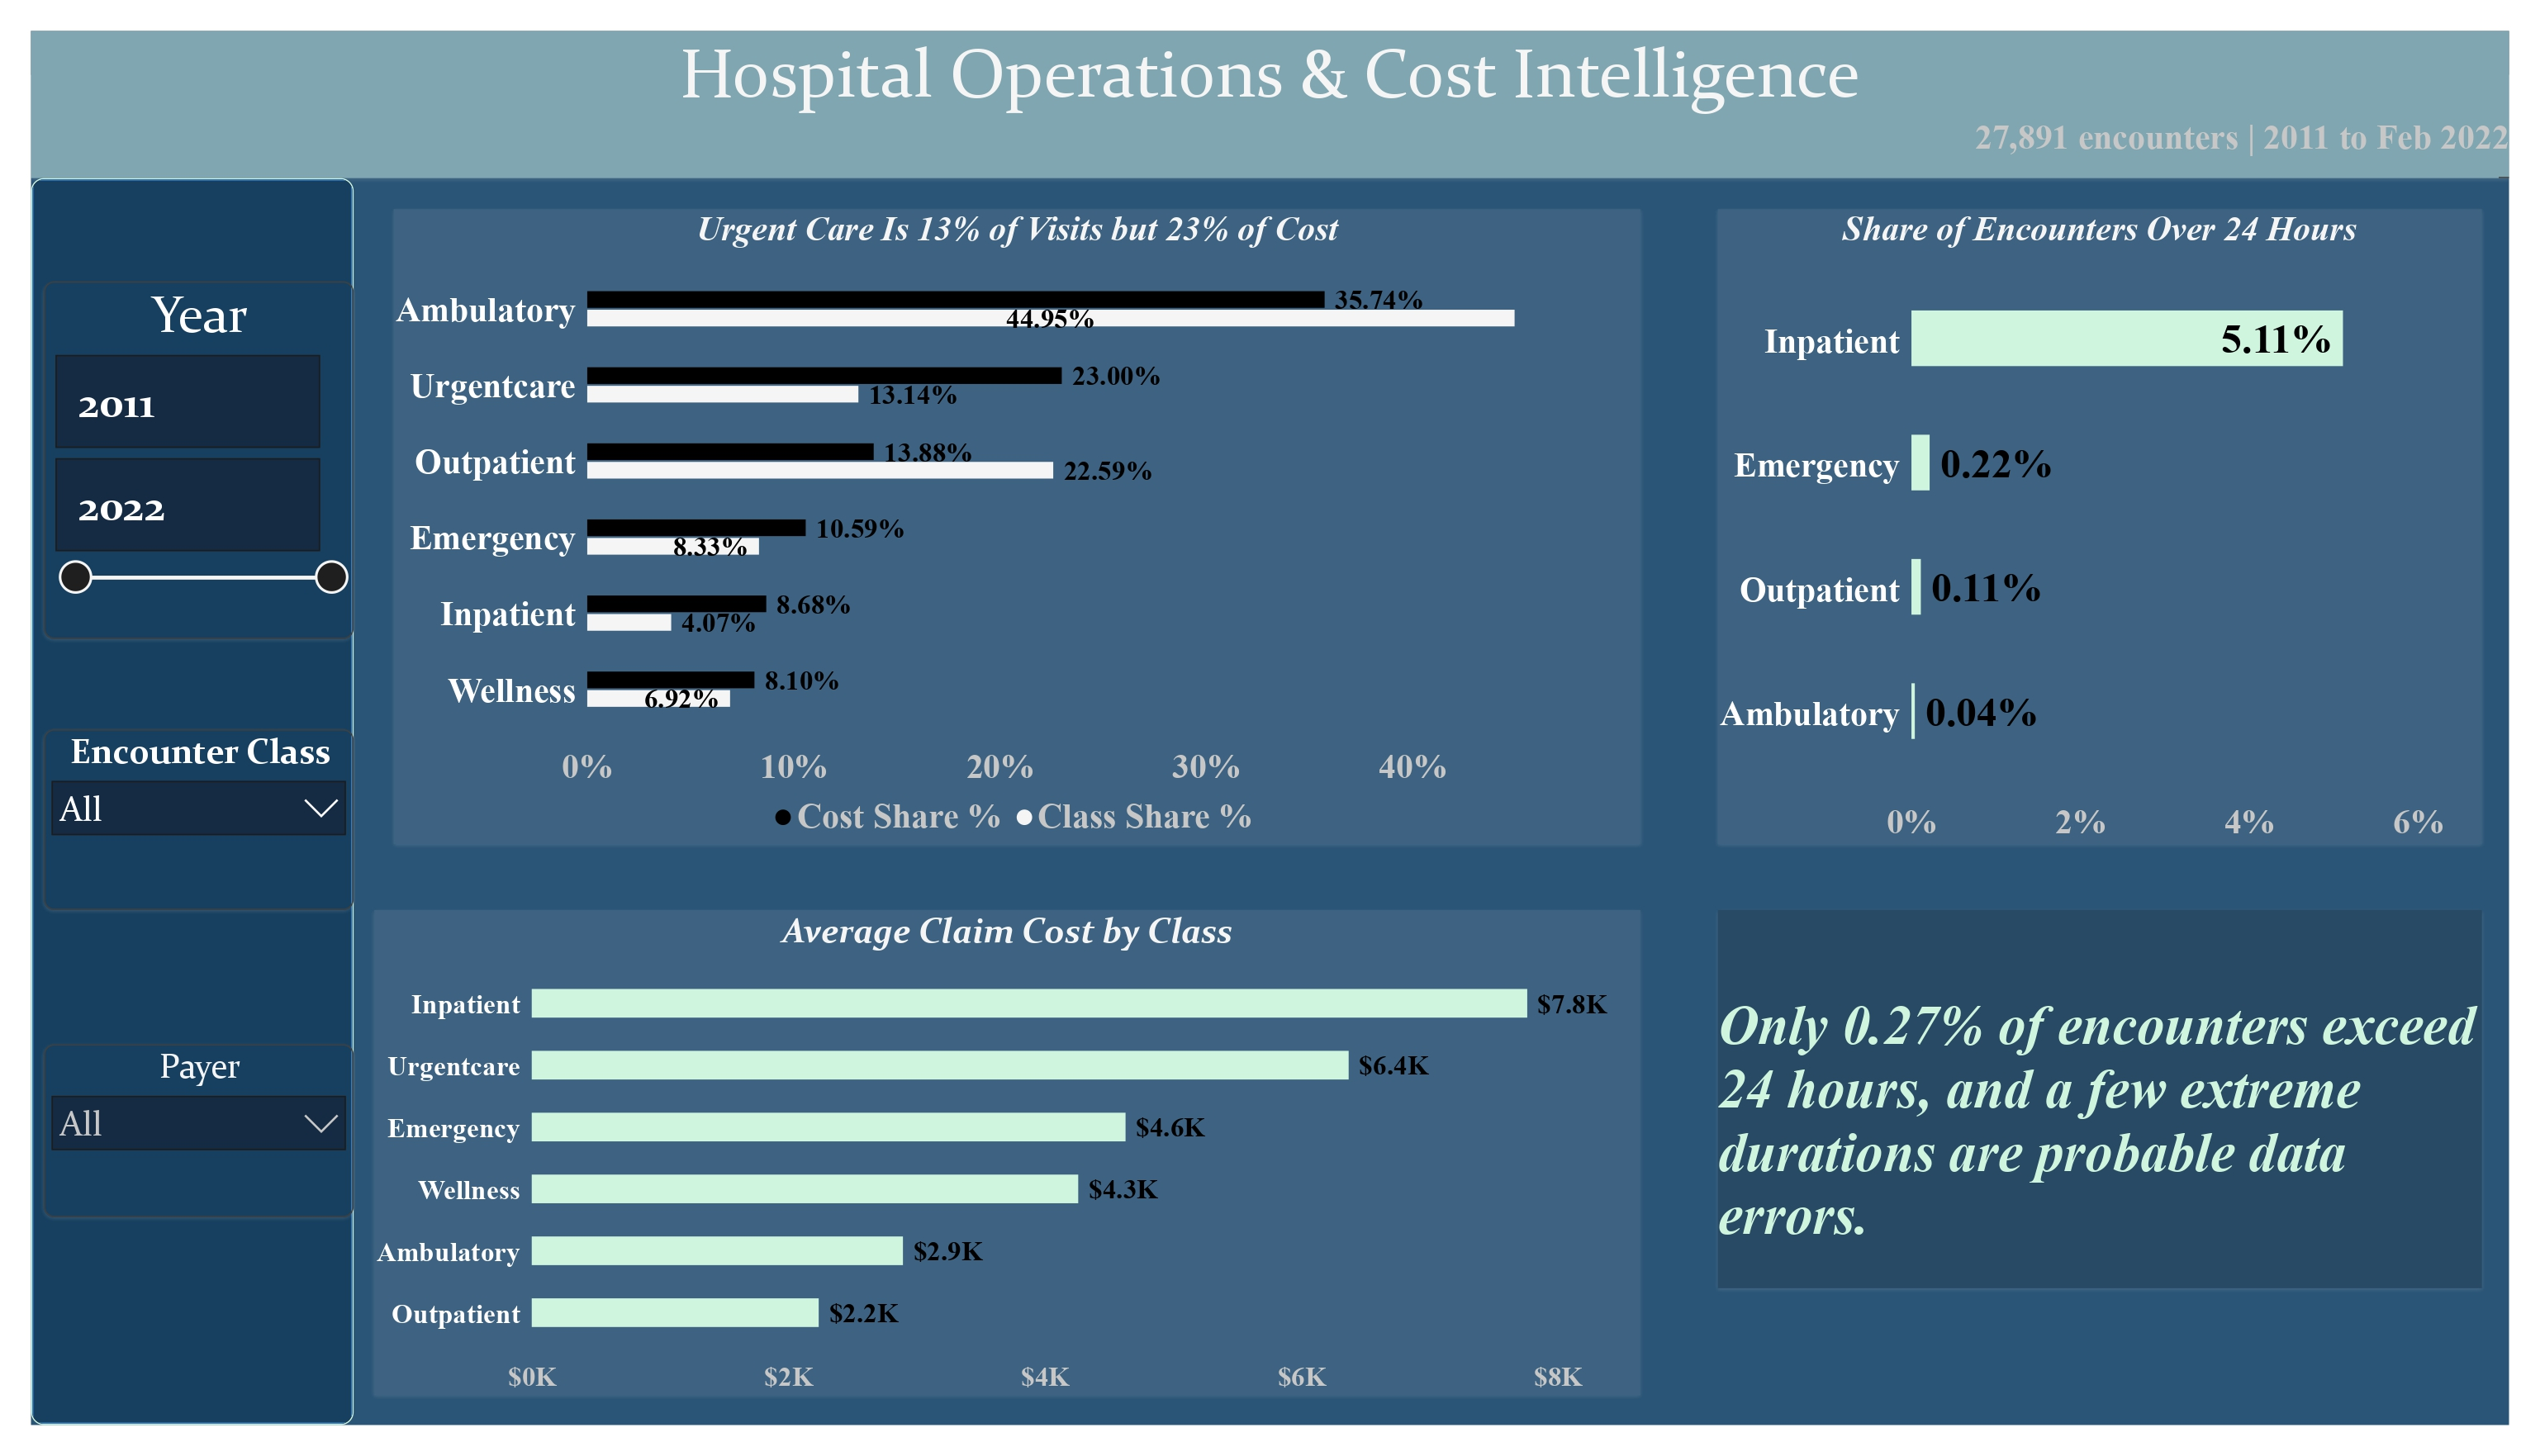

This screenshot's page, from the dashboard's own definition file:
{"tool":"powerbi","page":{"name":"Encounters","canvas":[1920,1080],"ordinal":2},"visuals":[{"type":"textbox","title":"Hospital Operations & Cost Intelligence","box":[0,0,1920,113.5],"z":0},{"type":"shape","box":[0,113.5,249.8,966.2],"z":0,"group":"g1"},{"type":"group","id":"g1","title":"Group 1","box":[0,113.5,249.8,966.2],"z":1000},{"type":"slicer","title":"Year","fields":{"Values":["DimDate.Date.Variation.Date Hierarchy.Year"]},"box":[10.3,194.1,239.5,276.6],"z":2000},{"type":"slicer","title":"Encounter Class","fields":{"Values":["encounters.ENCOUNTERCLASS"]},"box":[10.3,540.9,239.5,140.4],"z":3000},{"type":"slicer","title":"Payer","fields":{"Values":["payers.Payer_Name"]},"box":[10.3,784.5,239.5,134.2],"z":4000},{"type":"clusteredBarChart","title":"Urgent Care Is 13% of Visits but 23% of Cost","fields":{"Category":["encounters.ENCOUNTERCLASS"],"Y":["encounters.Cost Share %","encounters.Class Share %"]},"box":[280.8,138.3,966.2,491.4],"z":12000},{"type":"clusteredBarChart","title":"Average Claim Cost by Class","fields":{"Category":["encounters.ENCOUNTERCLASS"],"Y":["encounters.Avg Claim Cost"]},"box":[266.3,681.3,980.6,375.7],"z":12001},{"type":"clusteredBarChart","title":"Share of Encounters Over 24 Hours","fields":{"Category":["encounters.ENCOUNTERCLASS"],"Y":["encounters.Over 24h %"]},"box":[1306.8,138.3,592.5,491.4],"z":12002},{"type":"textbox","box":[1306.8,681.3,592.5,293.2],"z":12003}]}

Visuals, with their boxes on the page's 1920x1080 design canvas (x1, y1, x2, y2). These are canvas units, not pixel positions in the 2540x1456 screenshot, which may show the page scaled, cropped or inside an application window:
"Hospital Operations & Cost Intelligence" textbox: [left=0, top=0, right=1920, bottom=114]
shape: [left=0, top=114, right=250, bottom=1080]
"Group 1" group: [left=0, top=114, right=250, bottom=1080]
"Year" slicer: [left=10, top=194, right=250, bottom=471]
"Encounter Class" slicer: [left=10, top=541, right=250, bottom=681]
"Payer" slicer: [left=10, top=784, right=250, bottom=919]
"Urgent Care Is 13% of Visits but 23% of Cost" clusteredBarChart: [left=281, top=138, right=1247, bottom=630]
"Average Claim Cost by Class" clusteredBarChart: [left=266, top=681, right=1247, bottom=1057]
"Share of Encounters Over 24 Hours" clusteredBarChart: [left=1307, top=138, right=1899, bottom=630]
textbox: [left=1307, top=681, right=1899, bottom=974]
